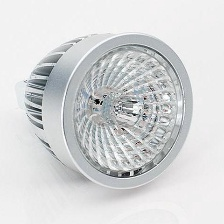light_bulb: (12, 27, 196, 194)
